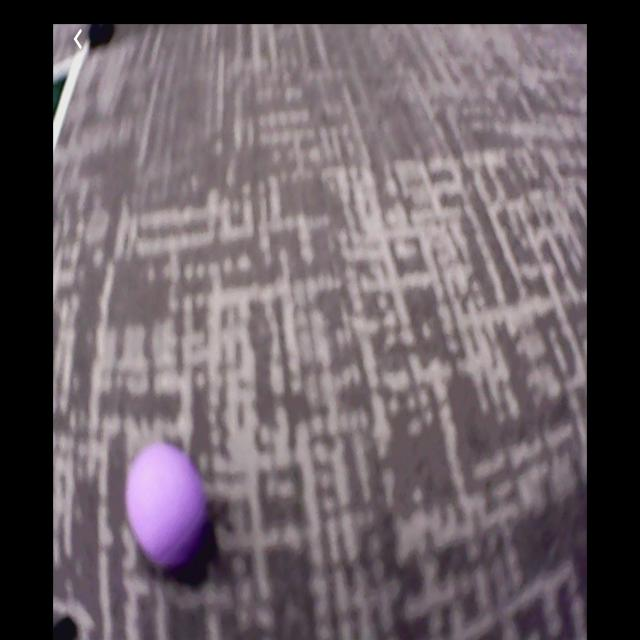ball: (128, 445, 210, 569)
